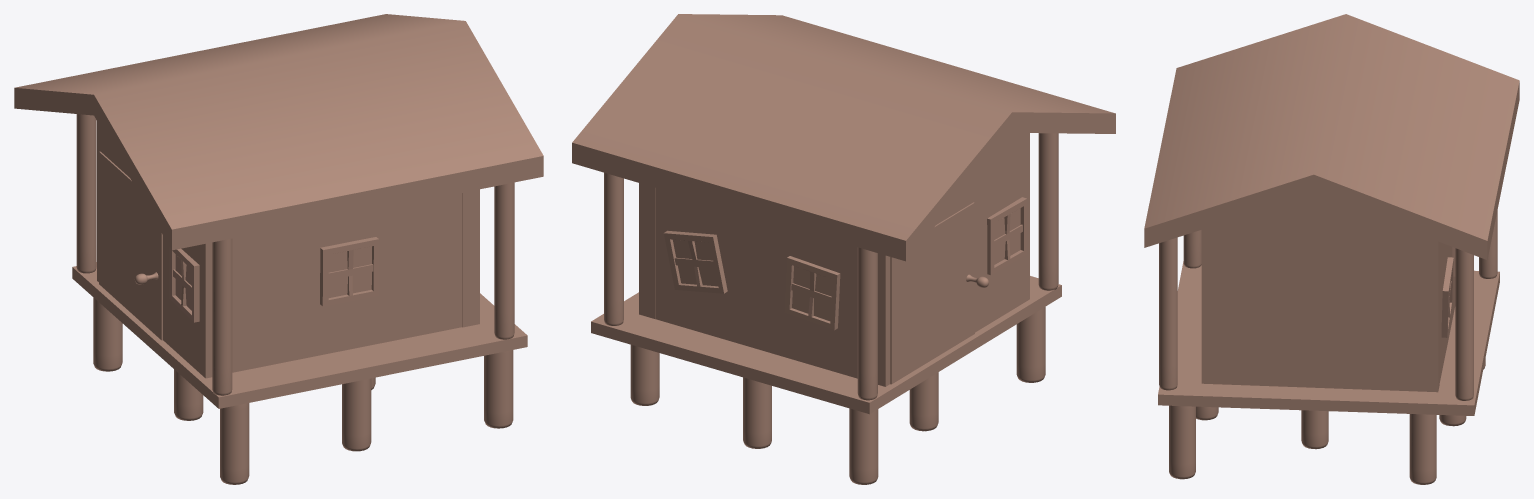
File: House3.fbx
3 renders of one model, left to right at view 1: azimuth 30°, elevation 25°; view 2: azimuth 150°, elevation 25°; view 3: azimuth 270°, elevation 25°, orthographic. The views are drawn at different scales.
Visible parts, largest first — view 1: House2; view 2: House2; view 3: House2.
Boxes of the visible parts, x1,y1,x2,y2 form: House2: (14,14,543,484); House2: (572,14,1115,484); House2: (1144,14,1519,484).
Size of the model in its own units: 6.98 by 5.98 by 6.4.
